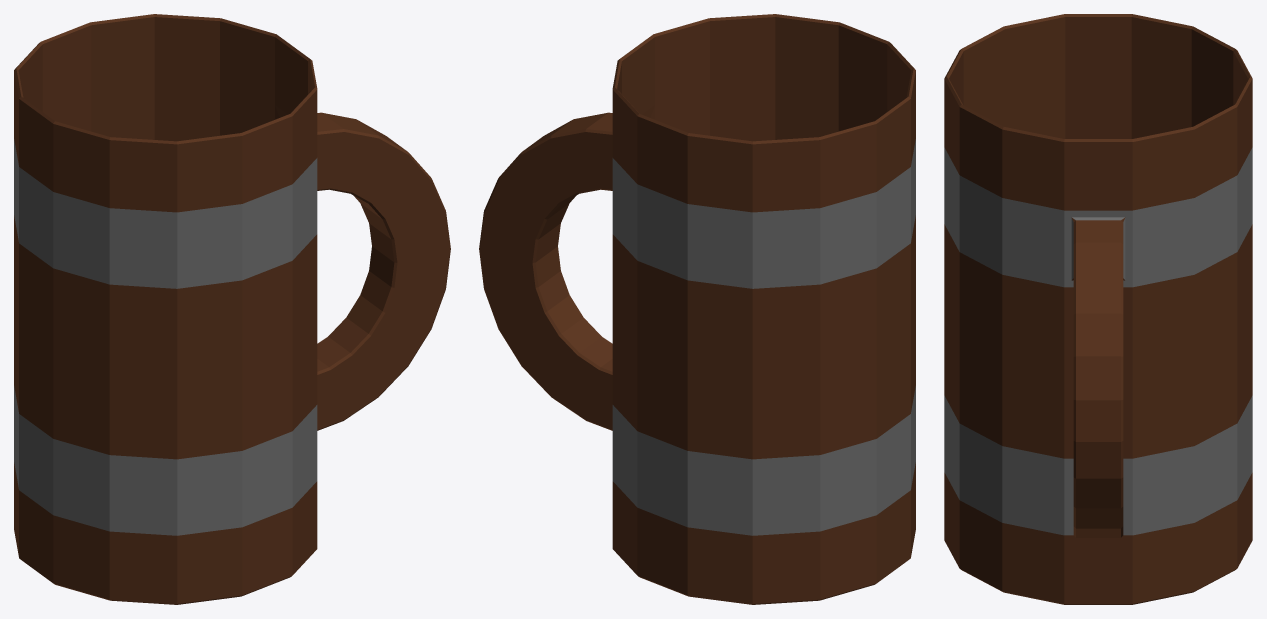
File: Beer_Mug.fbx
3 renders of one model, left to right at view 1: azimuth 30°, elevation 25°; view 2: azimuth 150°, elevation 25°; view 3: azimuth 270°, elevation 25°, orthographic.
Parts seen in each view (by area): view 1: Cylinder; view 2: Cylinder; view 3: Cylinder.
Boxes of the visible parts, left/top/right/bottom form: Cylinder: left=14, top=14, right=450, bottom=604; Cylinder: left=479, top=14, right=915, bottom=604; Cylinder: left=944, top=14, right=1252, bottom=604.
Bounding box in the file's own units: 15.94 × 17.49 × 10.49.
